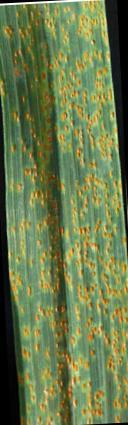Wheat: (20, 248, 127, 420), (16, 110, 114, 228), (11, 14, 104, 100)
